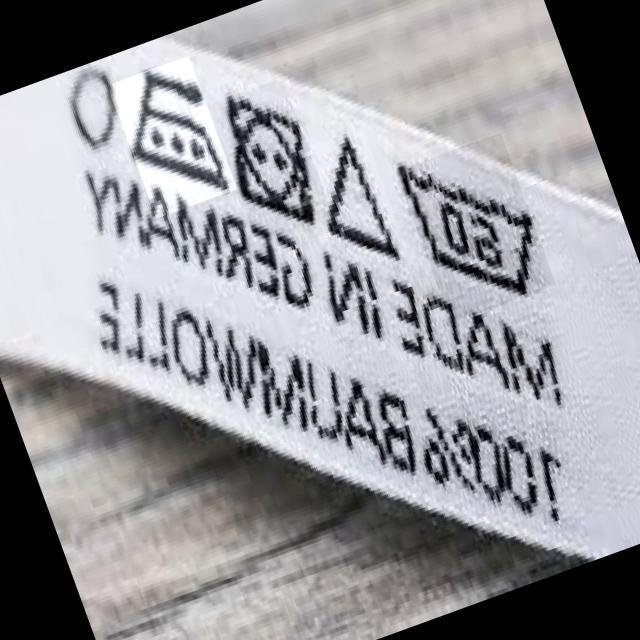60C: (395, 159, 549, 290)
bleach: (323, 132, 394, 260)
iron_high: (127, 65, 225, 191)
tumble_dry_medium: (227, 91, 314, 220)
